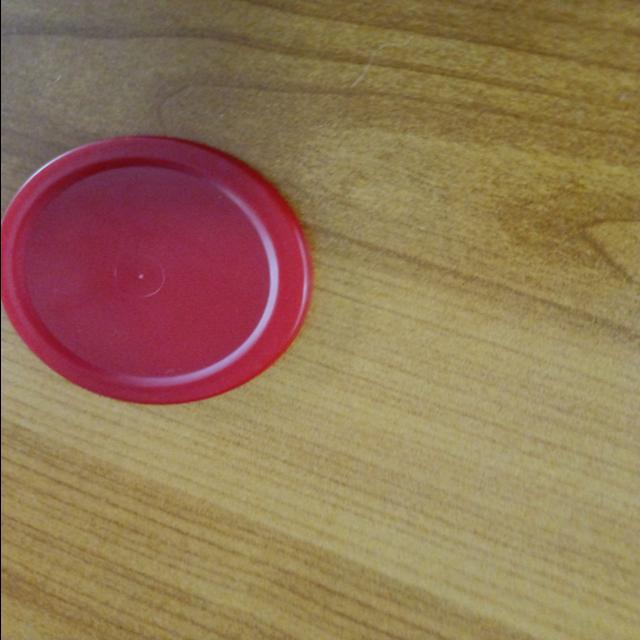chip: (4, 135, 312, 401)
